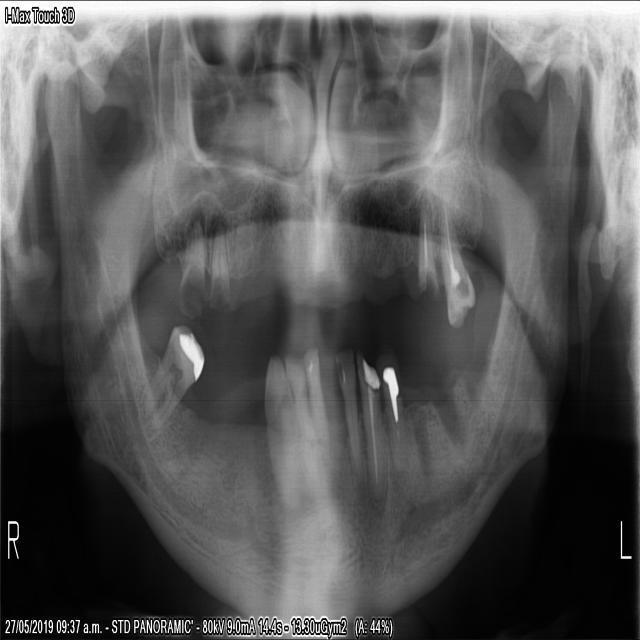LCD: (352, 347, 389, 512)
LID: (333, 341, 367, 485), (321, 349, 343, 439)
LMD: (435, 210, 477, 330), (416, 200, 440, 295)
LPMD: (379, 362, 404, 478)
RCD: (260, 345, 301, 491)
RID: (282, 346, 315, 454), (300, 344, 332, 444)
RMD: (146, 317, 205, 426)
RMU: (173, 224, 205, 322), (208, 227, 230, 314)
